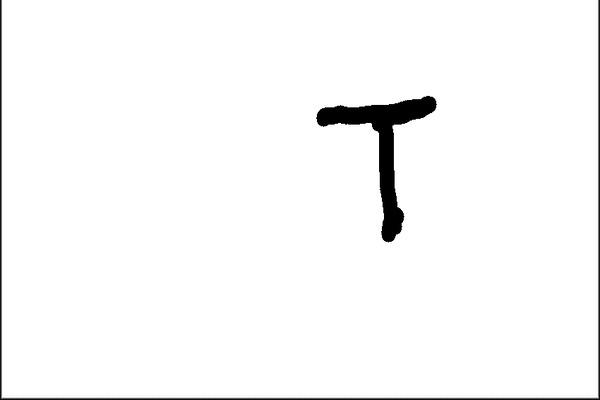T: (310, 80, 447, 246)
